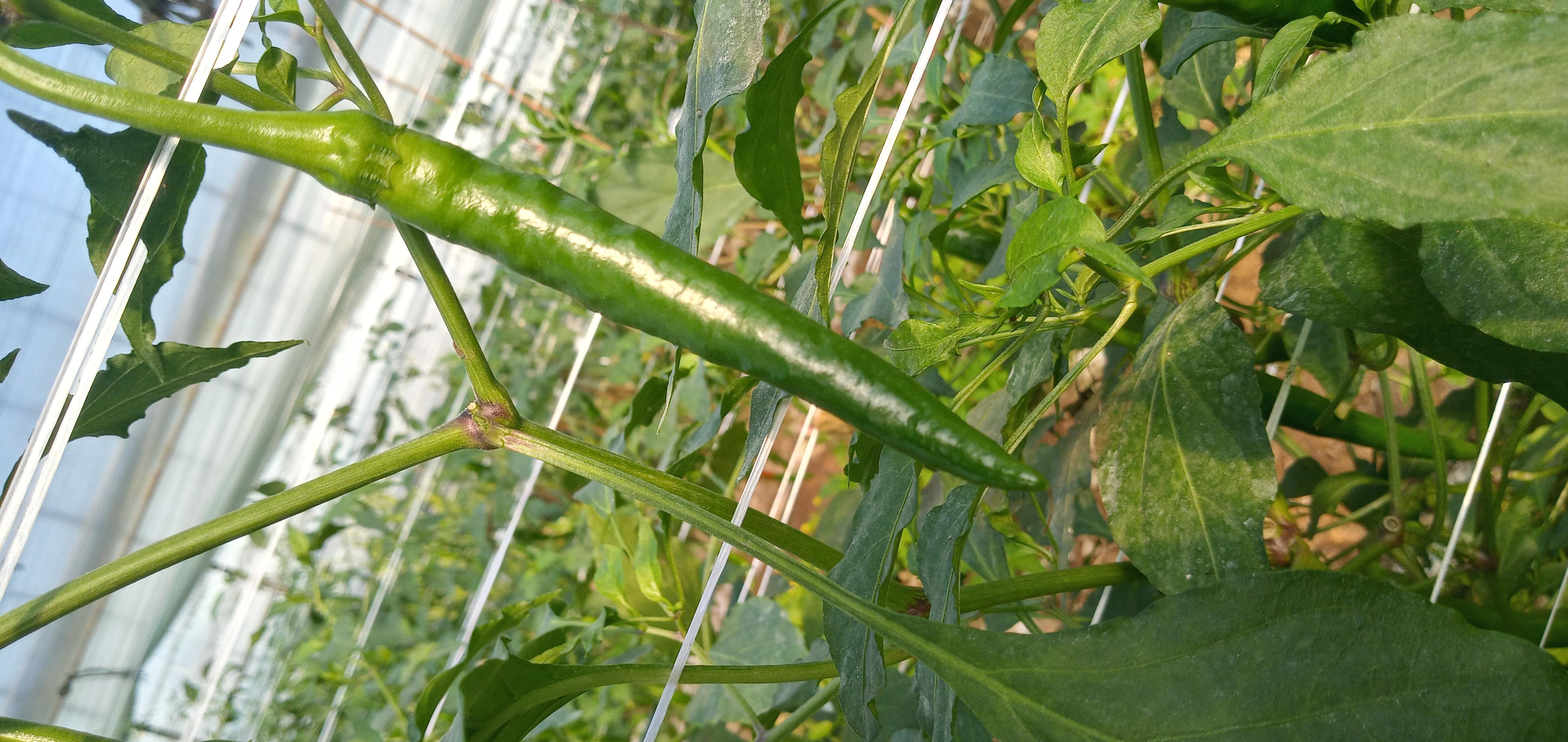Buah Cabai Sehat: (298, 108, 1050, 497)
